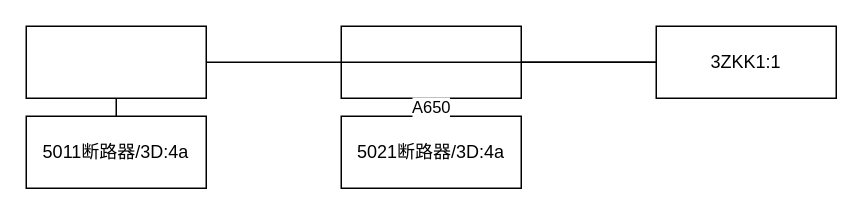
Image size: 863x215. Some labels were removed from this diagram. The shapes that lost their labels are listed below. From the top down, each one's centre as x and y in pixels, then its label:
At pixel 115 61: "5011断路器/3D:4".
At pixel 430 61: "5021断路器/3D:4".
